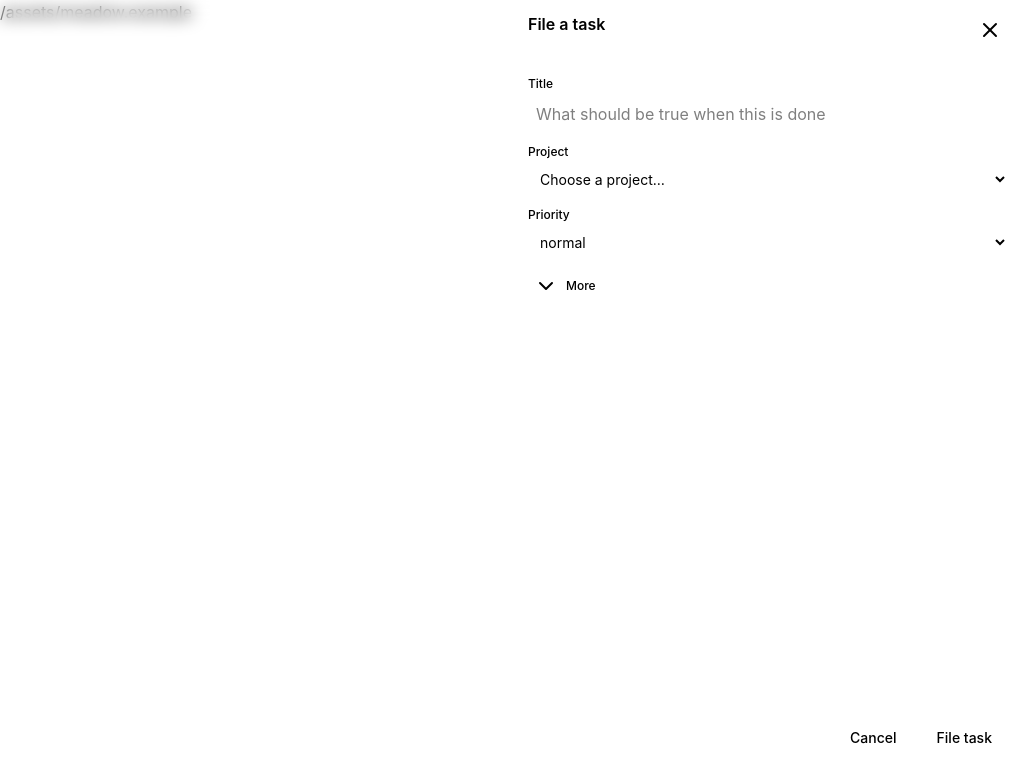
TaskComposer › refuses to file without a project, and says so on the field
Type "Something worth doing" into the field labelled "Title" at x=768, y=114, box x1=528 y1=96 x2=1008 y2=132
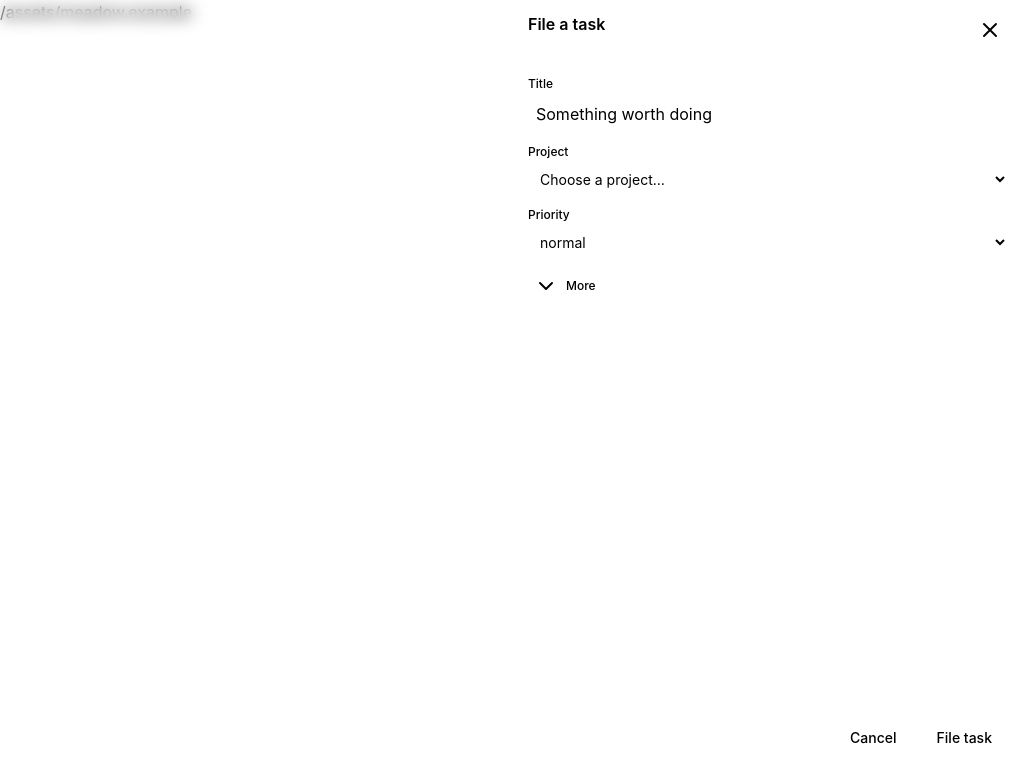
Click the button "File task" at x=964, y=738, box x1=921 y1=720 x2=1008 y2=756
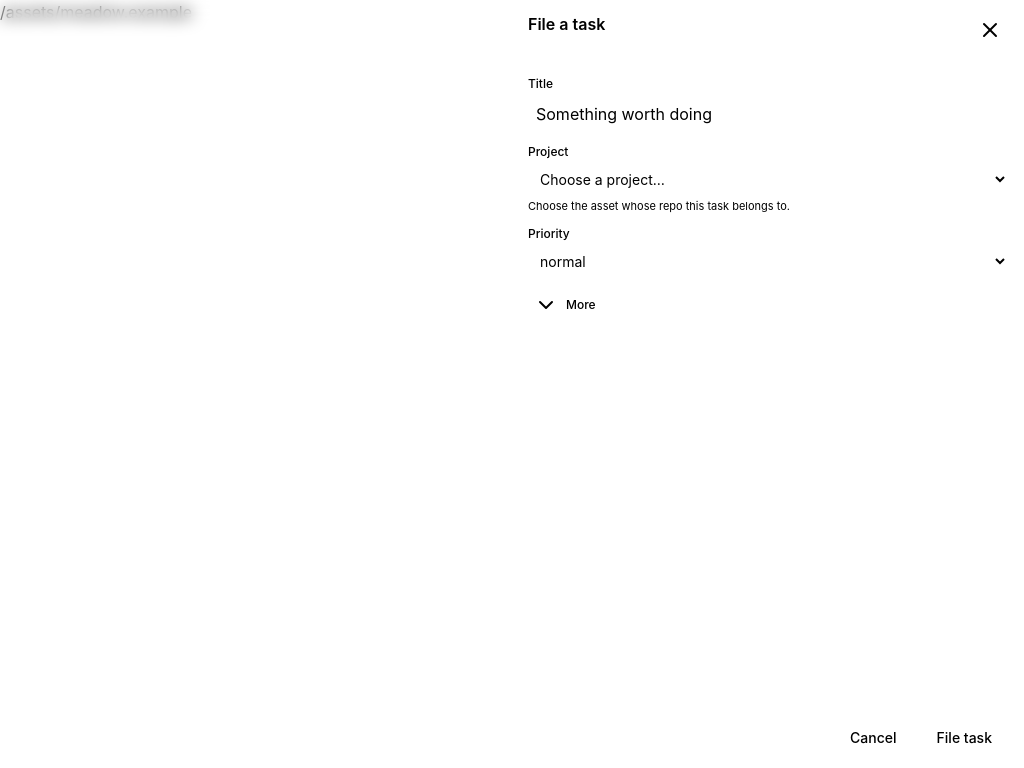
Result: the text "Choose the asset whose repo this task belongs to." is shown at x1=528 y1=199 x2=790 y2=213
